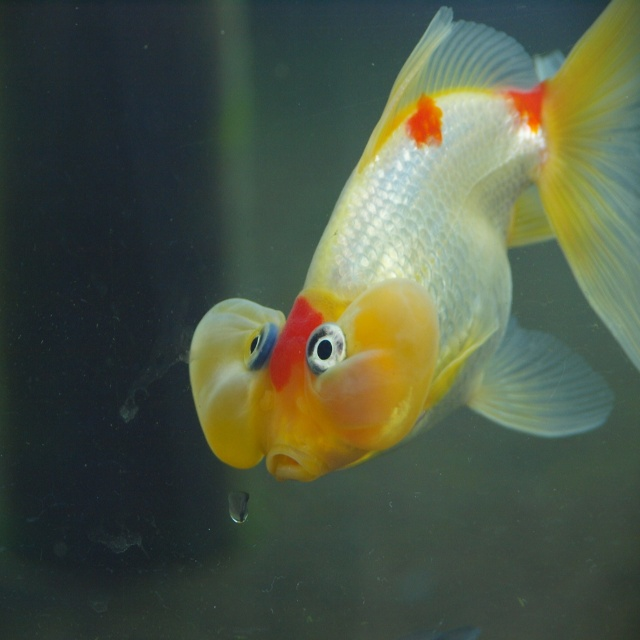Goldfish: (172, 43, 630, 511)
